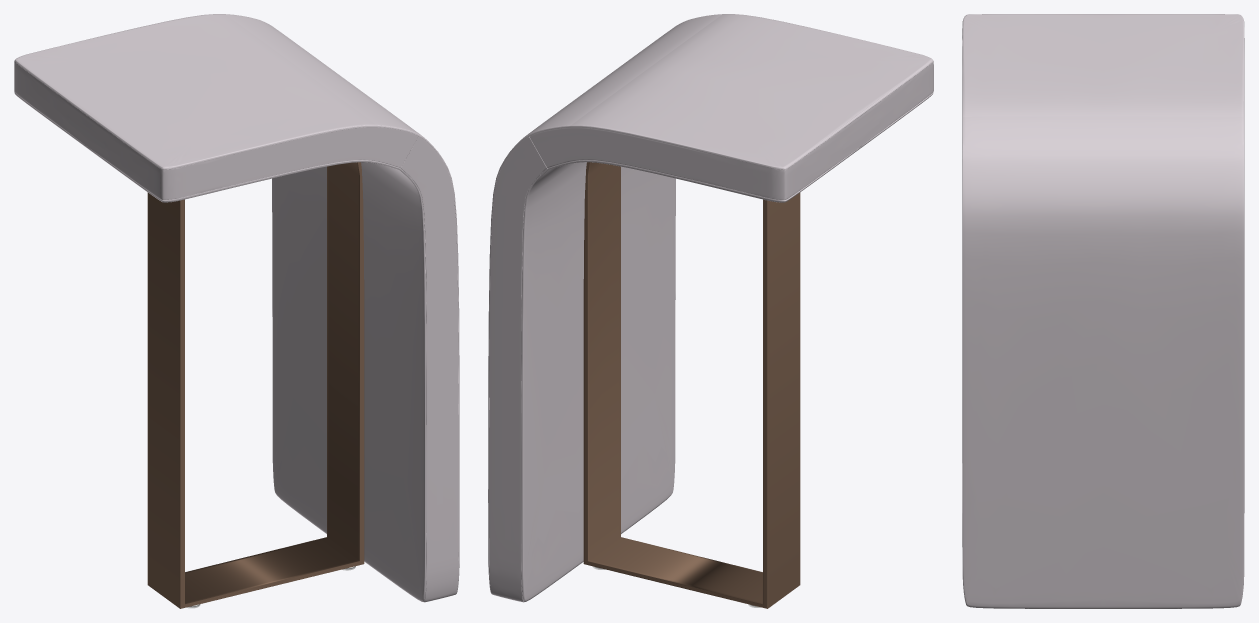
File: St_Hilker_Stuttgard_ST.glb
3 renders of one model, left to right at view 1: azimuth 30°, elevation 25°; view 2: azimuth 150°, elevation 25°; view 3: azimuth 270°, elevation 25°, orthographic. The views are drawn at different scales.
Visible parts, largest first — view 1: Stuttgard_ST; view 2: Stuttgard_ST; view 3: Stuttgard_ST.
Part boxes in pixels (x1,y1,x2,y2): Stuttgard_ST: [14, 14, 459, 608]; Stuttgard_ST: [488, 14, 933, 608]; Stuttgard_ST: [962, 14, 1244, 608].
Size of the model in its own units: 0.2712 by 0.4415 by 0.2418.
